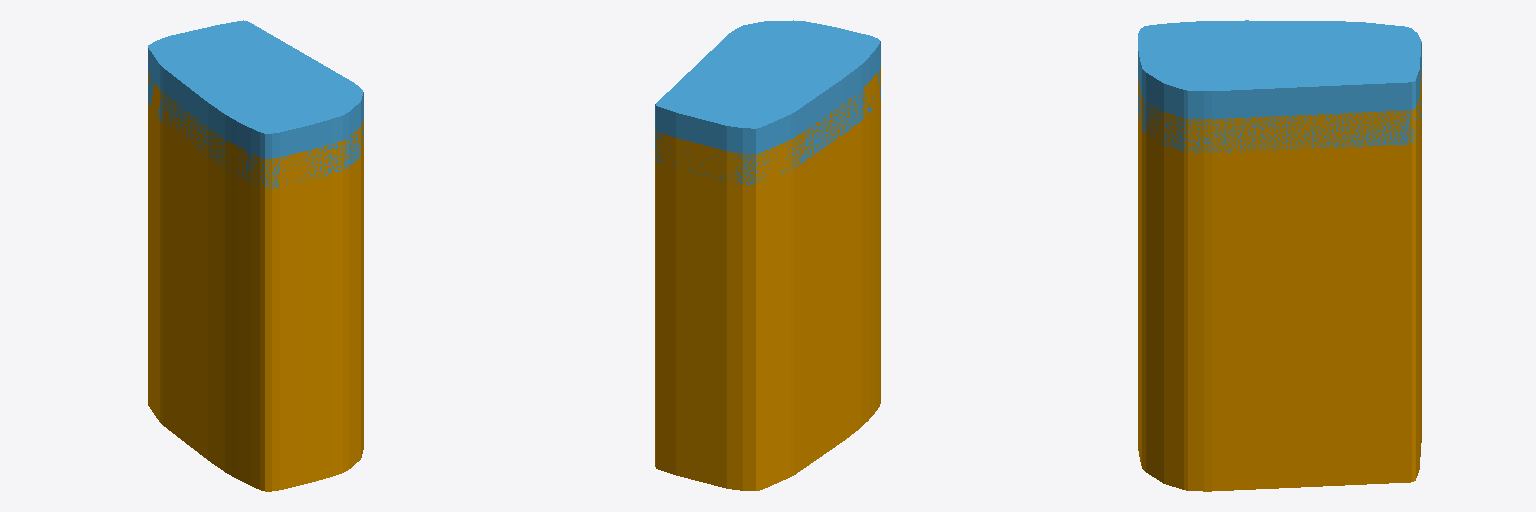
URDF robot description (drink_ad_articulated):
<?xml version="1.0"?>
<robot name="drink_ad_articulated">
  <link name="body_link">
    <inertial>
      <origin xyz="0 0 0" rpy="0 0 0"/>
      <mass value="0.520000"/>
      <inertia ixx="0.00187864" ixy="0" ixz="0" iyy="0.00148580" iyz="0" izz="0.00081751"/>
    </inertial>
    <visual>
      <origin xyz="0 0 0" rpy="0 0 0"/>
      <geometry><mesh filename="drink_ad_body.obj" scale="1 1 1"/></geometry>
    </visual>
    <collision>
      <origin xyz="0 0 0" rpy="0 0 0"/>
      <geometry><mesh filename="drink_ad_body_collision.obj" scale="1 1 1"/></geometry>
    </collision>
  </link>
  <link name="cap_link">
    <inertial>
      <origin xyz="0 0 0" rpy="0 0 0"/>
      <mass value="0.030000"/>
      <inertia ixx="0.00003695" ixy="0" ixz="0" iyy="0.00001429" iyz="0" izz="0.00004716"/>
    </inertial>
    <visual>
      <origin xyz="0 0 0" rpy="0 0 0"/>
      <geometry><mesh filename="drink_ad_cap.obj" scale="1 1 1"/></geometry>
    </visual>
    <collision>
      <origin xyz="0 0 0" rpy="0 0 0"/>
      <geometry><mesh filename="drink_ad_cap_collision.obj" scale="1 1 1"/></geometry>
    </collision>
  </link>
  <joint name="cap_joint" type="revolute">
    <parent link="body_link"/>
    <child link="cap_link"/>
    <origin xyz="0.000000 0.000000 0.084286" rpy="0 0 0"/>
    <axis xyz="0 0 1"/>
    <limit lower="-6.283" upper="6.283" effort="5" velocity="0.5"/>
    <dynamics damping="3.0" friction="1.5"/>
  </joint>
</robot>

--- What the picture shows (computed from the rendered views, not written in the file) ---
3 views of the same robot in one strip: view 1: azimuth 30°, elevation 25°; view 2: azimuth 150°, elevation 25°; view 3: azimuth 270°, elevation 25° (orthographic).
Model drink_ad_articulated with 2 links and 1 joints (1 revolute), rooted at body_link, posed all joints at 0.
Visible links, largest first — view 1: body_link, cap_link; view 2: body_link, cap_link; view 3: body_link, cap_link.
Boxes of the visible links, x1=… form: body_link: x1=148, y1=73, x2=363, y2=491; cap_link: x1=148, y1=20, x2=363, y2=188; body_link: x1=655, y1=67, x2=880, y2=490; cap_link: x1=655, y1=20, x2=880, y2=184; body_link: x1=1138, y1=71, x2=1421, y2=491; cap_link: x1=1138, y1=20, x2=1421, y2=152.
Bounding box of the posed robot: 0.07 × 0.1182 × 0.1843 m (x, y, z).
2 mesh visuals loaded from 2 distinct referenced files (2 OBJ).
